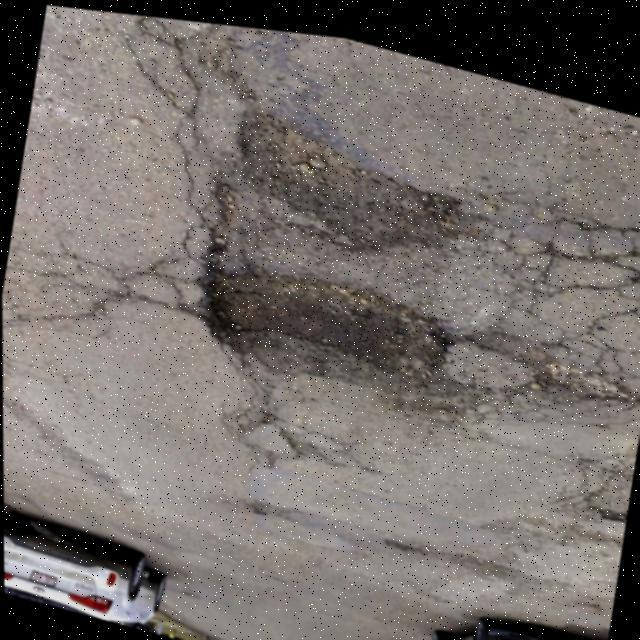pothole: (182, 90, 482, 417)
